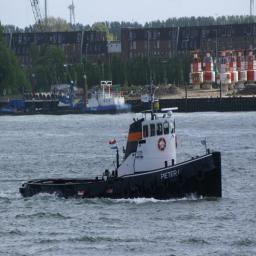tugboat: (19, 97, 225, 209)
